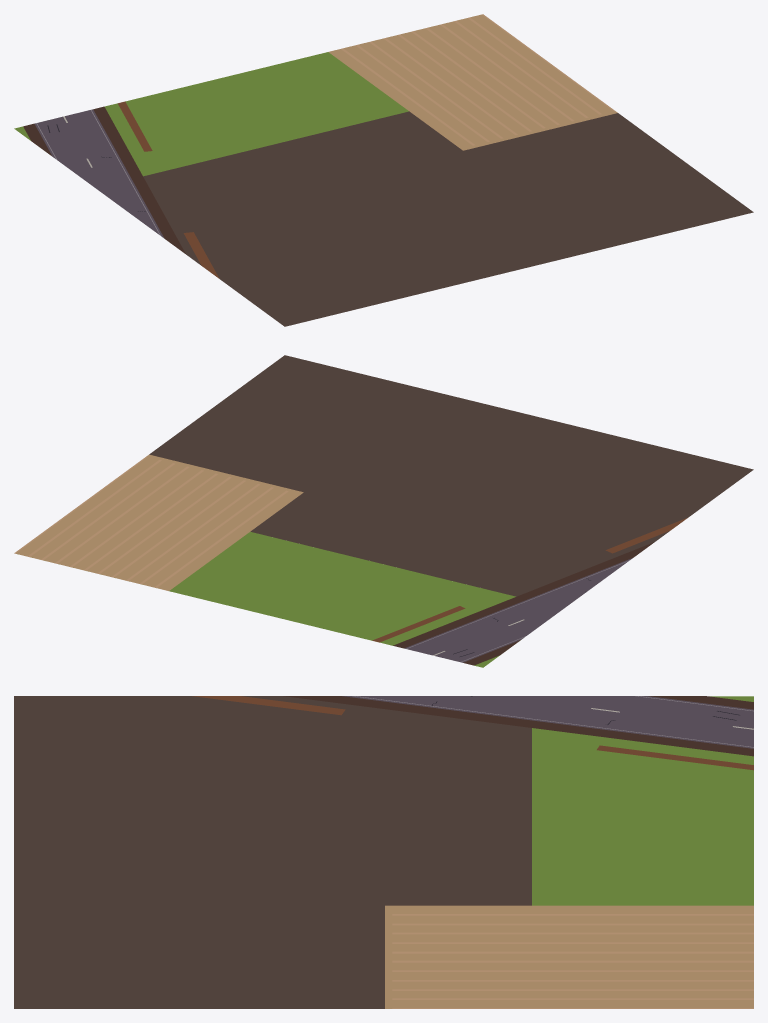
File: crossing-2-2.glb
3 views of the same model, one above another, from view 1: azimuth 30°, elevation 25°; view 2: azimuth 150°, elevation 25°; view 3: azimuth 270°, elevation 25° (orthographic). The views are drawn at different scales.
Parts seen in each view (by area): view 1: crossing-2-2; view 2: crossing-2-2; view 3: crossing-2-2.
Boxes of the visible parts, box(x1,y1,x2,y2) form: crossing-2-2: box(14, 14, 753, 326); crossing-2-2: box(14, 355, 753, 667); crossing-2-2: box(14, 696, 753, 1008).
Bounding box in the file's own units: 100 × 0.0145 × 100.
